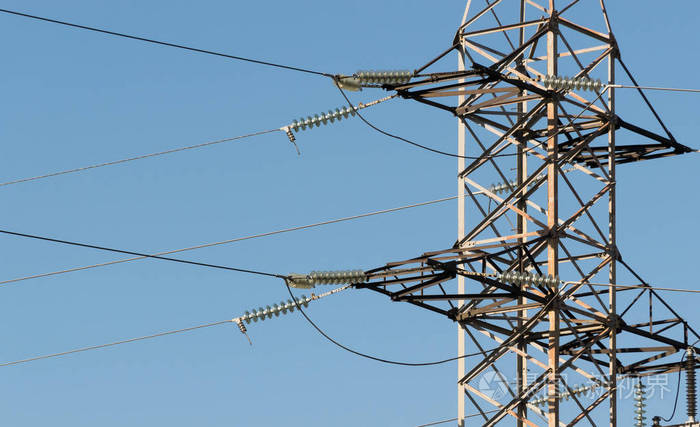insulator: (247, 295, 308, 325), (290, 105, 355, 131), (532, 383, 600, 405), (500, 269, 561, 290), (681, 354, 700, 417), (306, 269, 366, 287), (356, 64, 415, 81), (545, 75, 603, 92), (632, 384, 650, 427), (488, 177, 513, 194)
